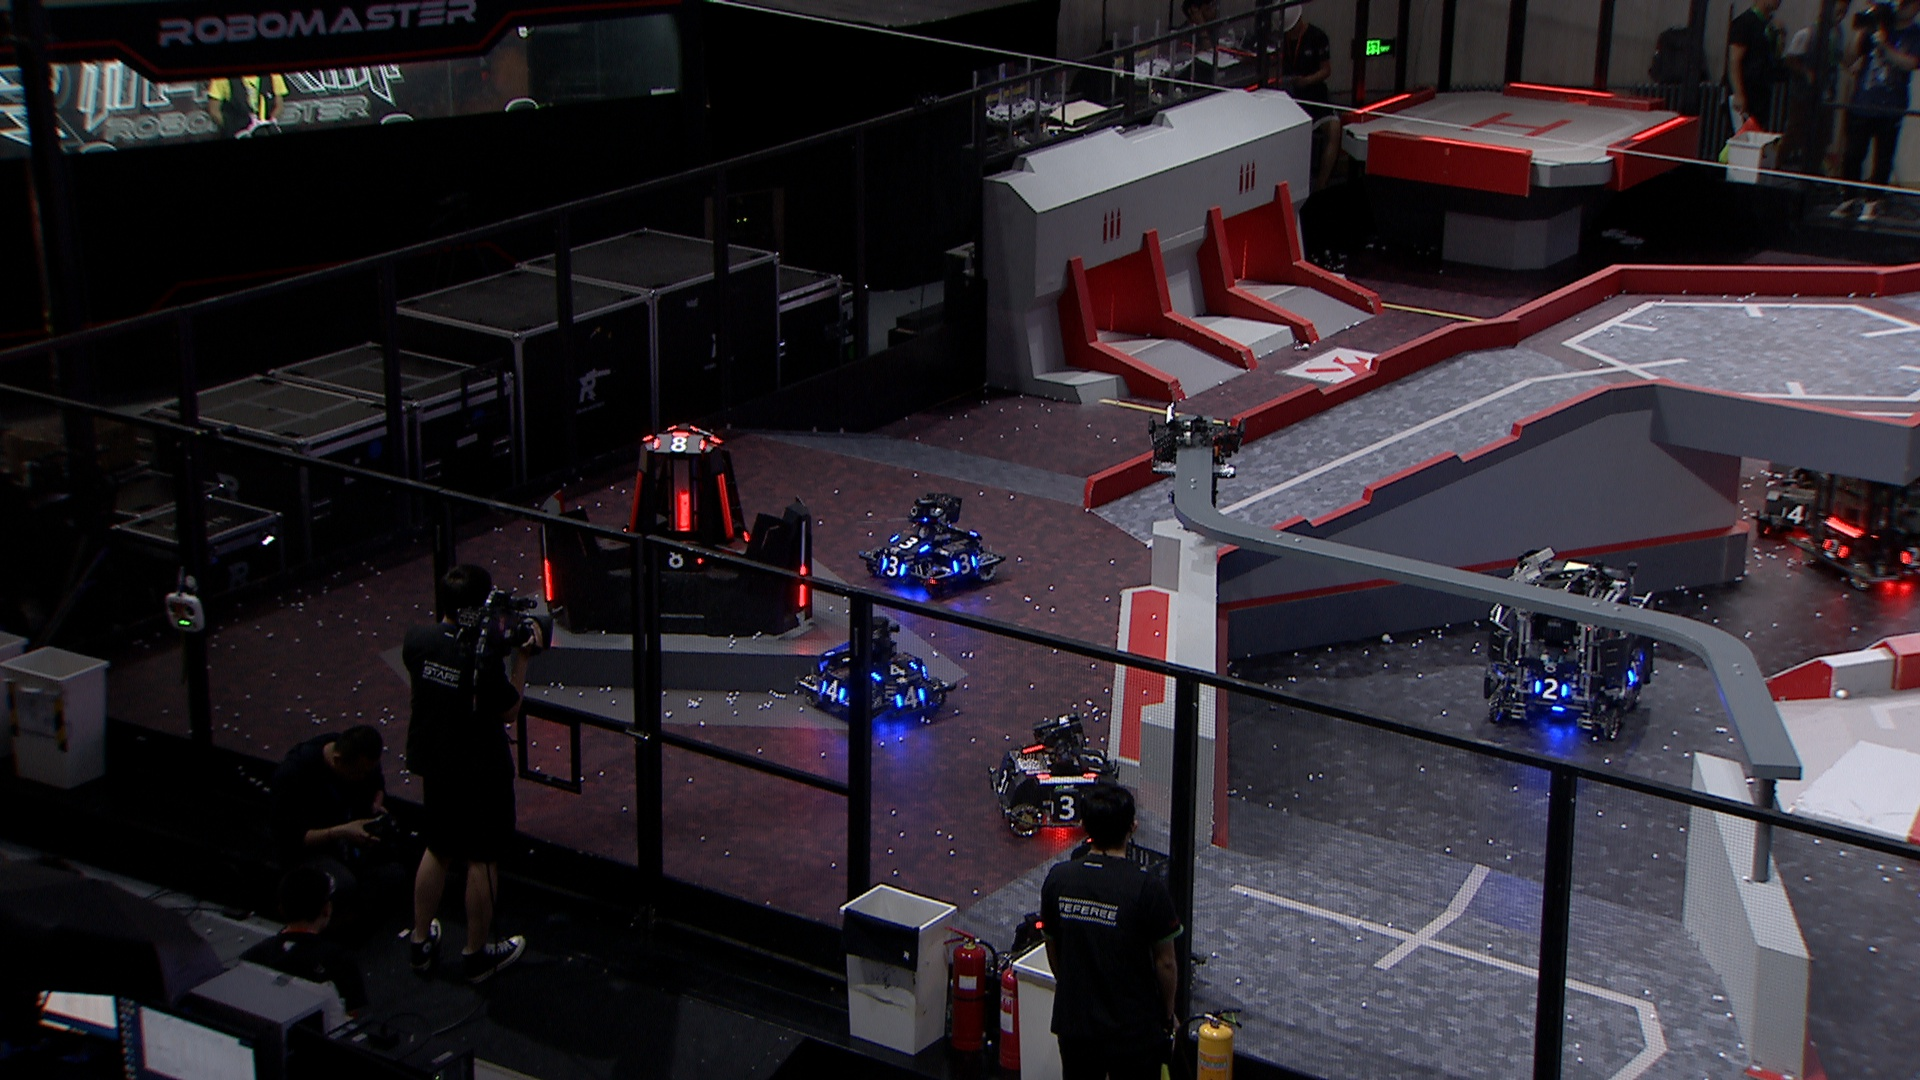armor: (624, 467, 644, 531), (717, 472, 735, 538), (655, 546, 699, 568), (671, 489, 692, 533), (654, 434, 704, 451), (872, 662, 916, 680), (891, 534, 930, 555), (1044, 796, 1077, 820), (796, 562, 812, 609), (1531, 680, 1571, 699), (1780, 502, 1812, 524), (895, 687, 926, 708), (880, 555, 906, 579), (1077, 746, 1102, 770), (820, 680, 847, 703), (953, 553, 978, 575), (1821, 537, 1847, 556), (542, 556, 553, 604), (994, 764, 1011, 793), (1626, 659, 1640, 687), (1902, 546, 1920, 567)
base: (531, 425, 818, 641)
car: (1001, 831, 1211, 1017), (1480, 541, 1662, 740), (1807, 433, 1920, 589), (798, 612, 955, 723), (986, 716, 1131, 831), (860, 493, 1005, 588), (1750, 450, 1845, 545)
watcher: (1147, 398, 1254, 520)
